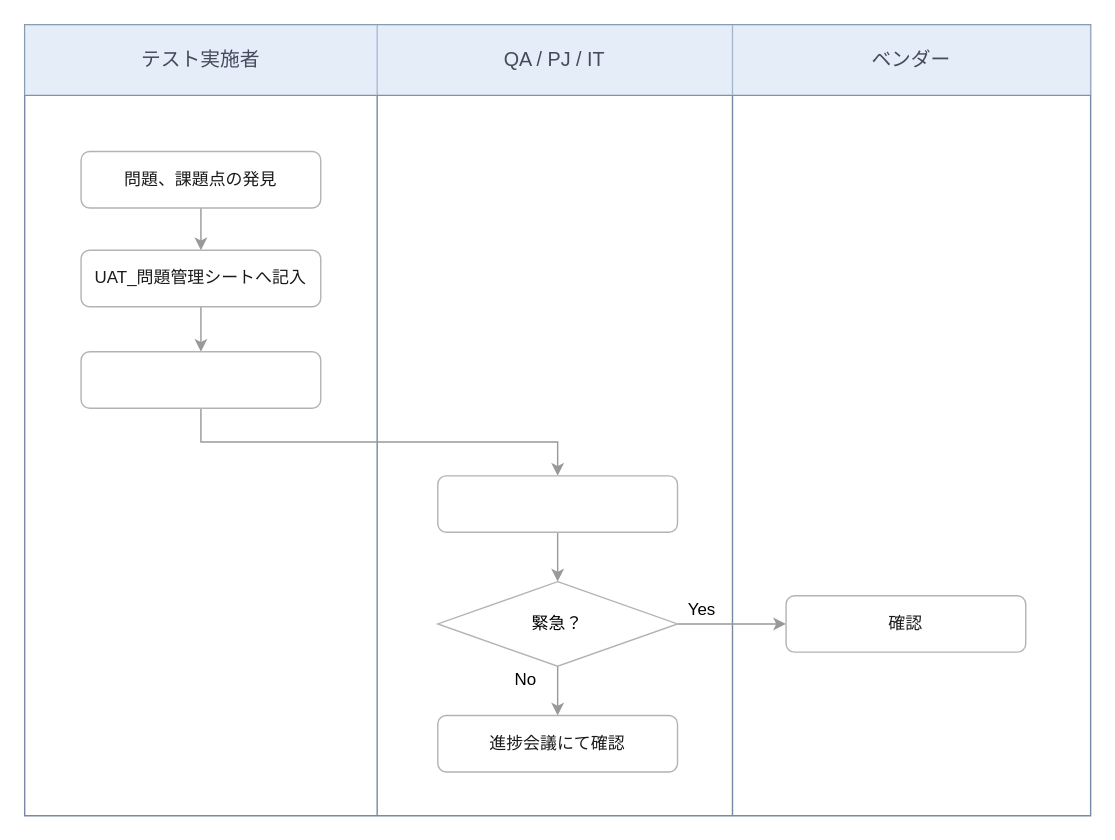
The diagram is 1115 pixels wide and 840 high, and some of its shapes have lost their labels. Each missing label, with the centre of its shape:
1次確認、緊急度確認: the point at 557,503
Teams UATチャネルへ投稿: the point at 200,379
